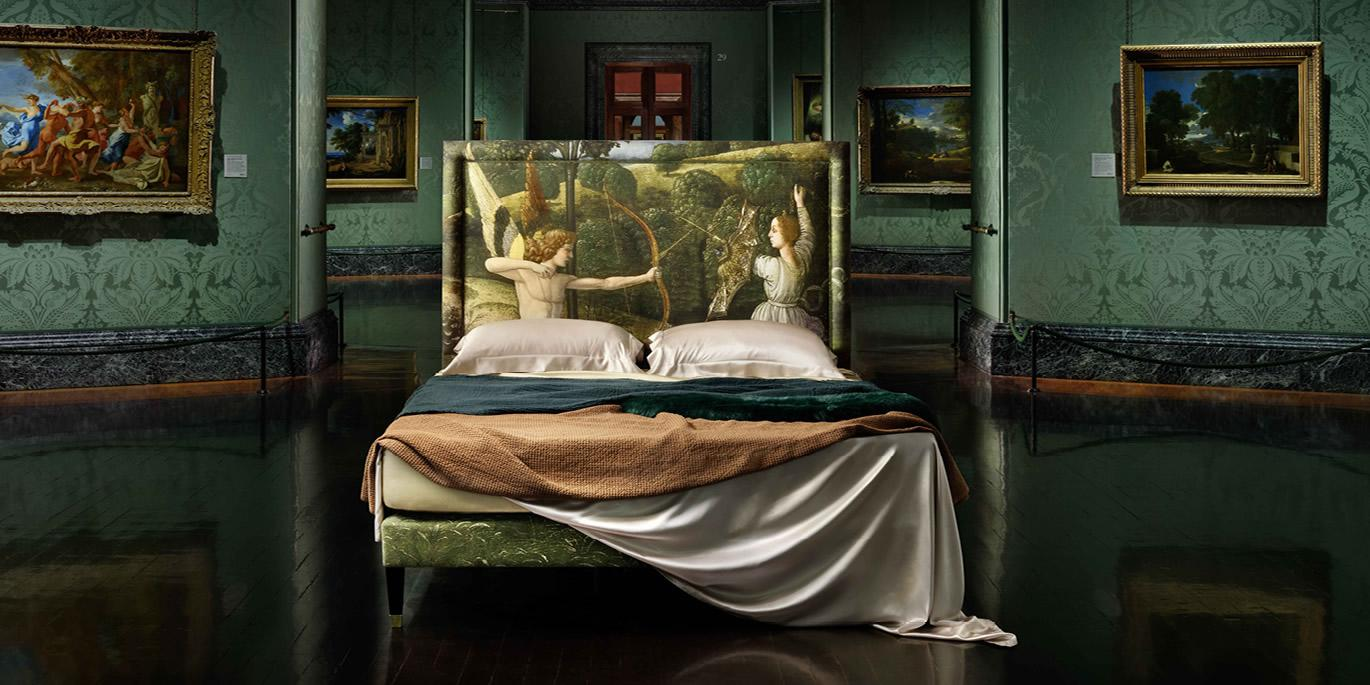bed: (354, 129, 1018, 645)
